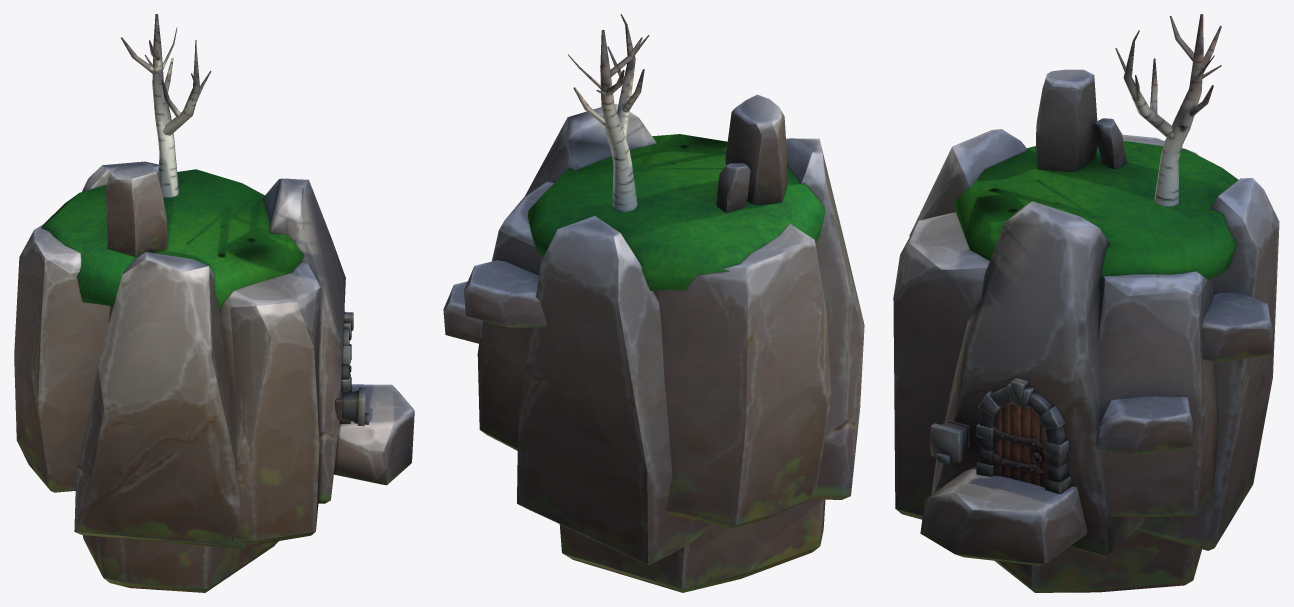
3 views of the same model, side by side, from view 1: azimuth 30°, elevation 25°; view 2: azimuth 150°, elevation 25°; view 3: azimuth 270°, elevation 25° (orthographic). The views are drawn at different scales.
Parts seen in each view (by area): view 1: island_2; view 2: island_2; view 3: island_2.
Part boxes in pixels (bbox=[...]): island_2: bbox=[14, 14, 414, 592]; island_2: bbox=[443, 14, 864, 592]; island_2: bbox=[893, 14, 1279, 592].
Size of the model in its own units: 10.1 by 14.37 by 8.94.
Materials: 1 (1 with a texture image).
